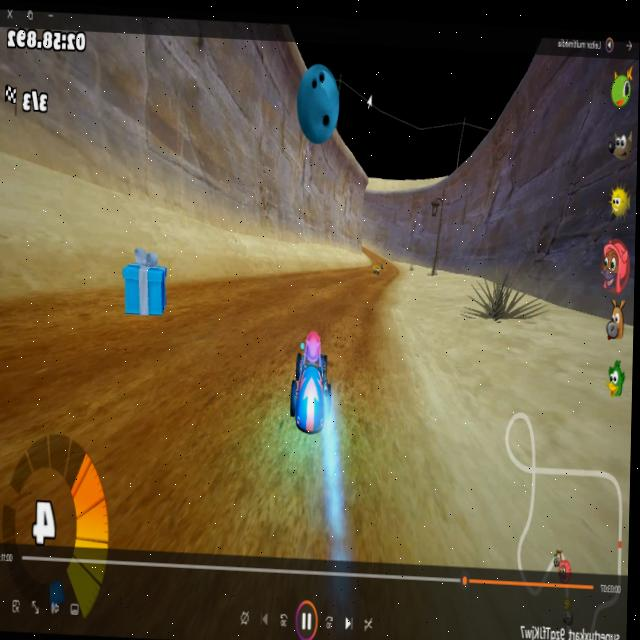bonus: (116, 247, 176, 324)
enemy_kart: (364, 264, 383, 279)
player_kart: (288, 332, 339, 437)
track: (0, 420, 428, 559), (0, 325, 288, 438), (177, 273, 381, 343), (336, 340, 400, 440), (286, 257, 358, 289), (382, 260, 401, 287), (361, 245, 377, 258), (372, 256, 392, 260)
